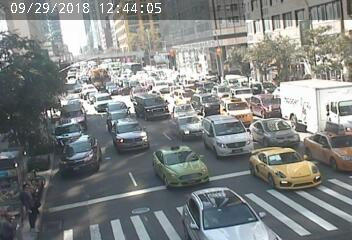car: (283, 85, 352, 129), (56, 122, 99, 151), (197, 199, 246, 223), (161, 152, 203, 177), (261, 158, 302, 183), (214, 124, 251, 150), (307, 135, 346, 159), (111, 122, 148, 146), (69, 145, 97, 171), (261, 123, 295, 144), (172, 120, 203, 138), (222, 99, 251, 118), (198, 91, 222, 113), (142, 98, 167, 118), (63, 109, 89, 125), (154, 74, 170, 95), (256, 95, 276, 109), (109, 114, 135, 123), (231, 90, 252, 99), (174, 92, 194, 101), (106, 103, 127, 111), (92, 95, 111, 103), (106, 82, 121, 92), (178, 105, 195, 113), (82, 86, 97, 93)
